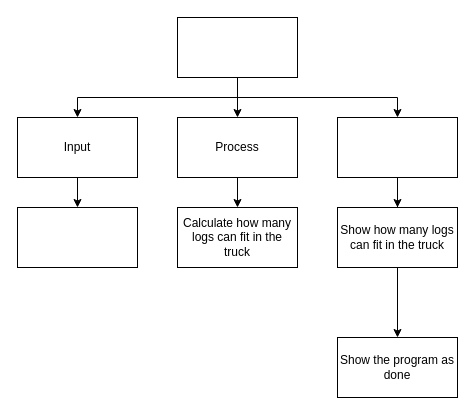
This 475x415 diagram has some shape labels left out. The shapes that lost their labels are listed below. From the top down, each one's box as (x1, y1, x2, y2) in pixels, then its label:
(176, 16, 298, 78): How many logs a truck can carry
(336, 116, 458, 178): Output
(16, 206, 138, 268): Are the user how long the logs are
